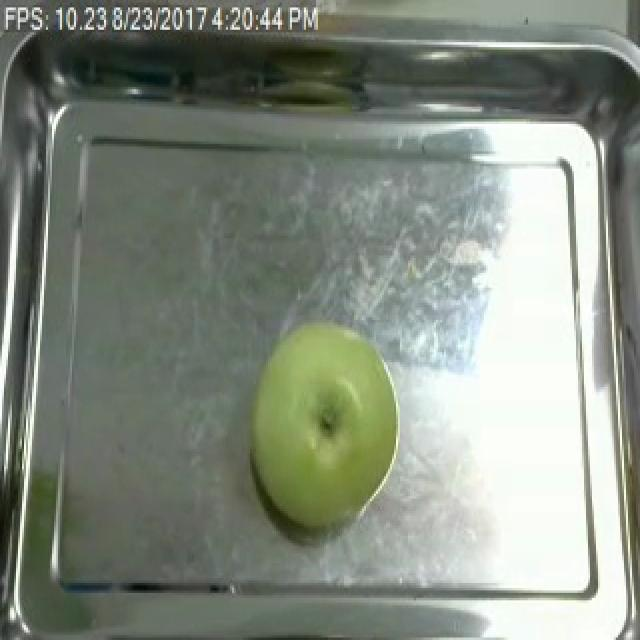50-_ripeness: (257, 338, 405, 528)
